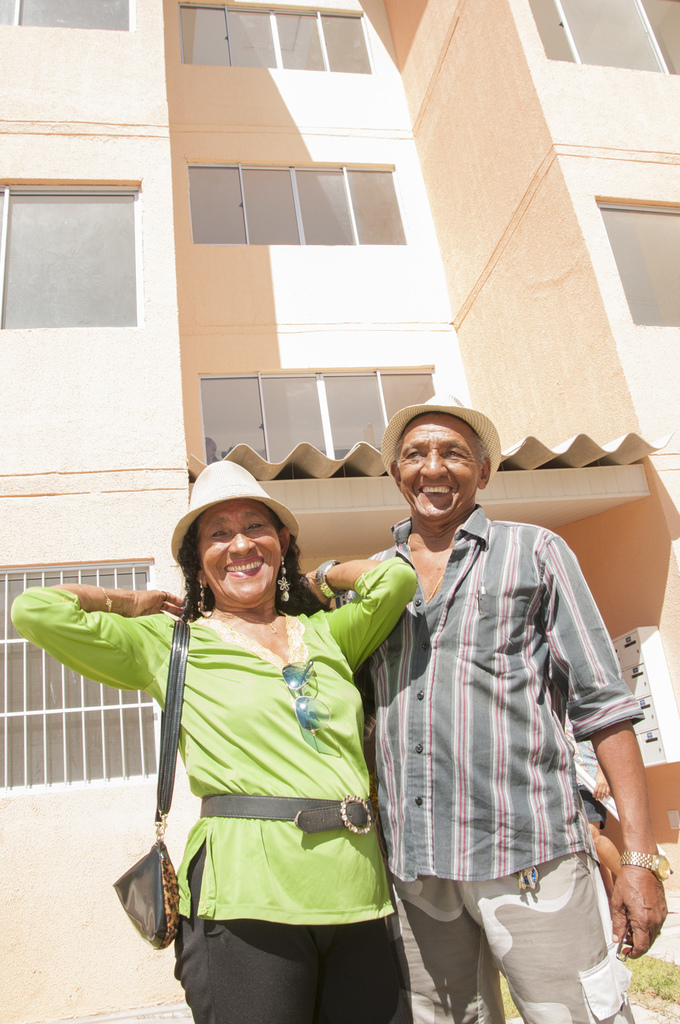Human_hand: (608, 864, 672, 961), (118, 586, 188, 621), (297, 568, 330, 610)
